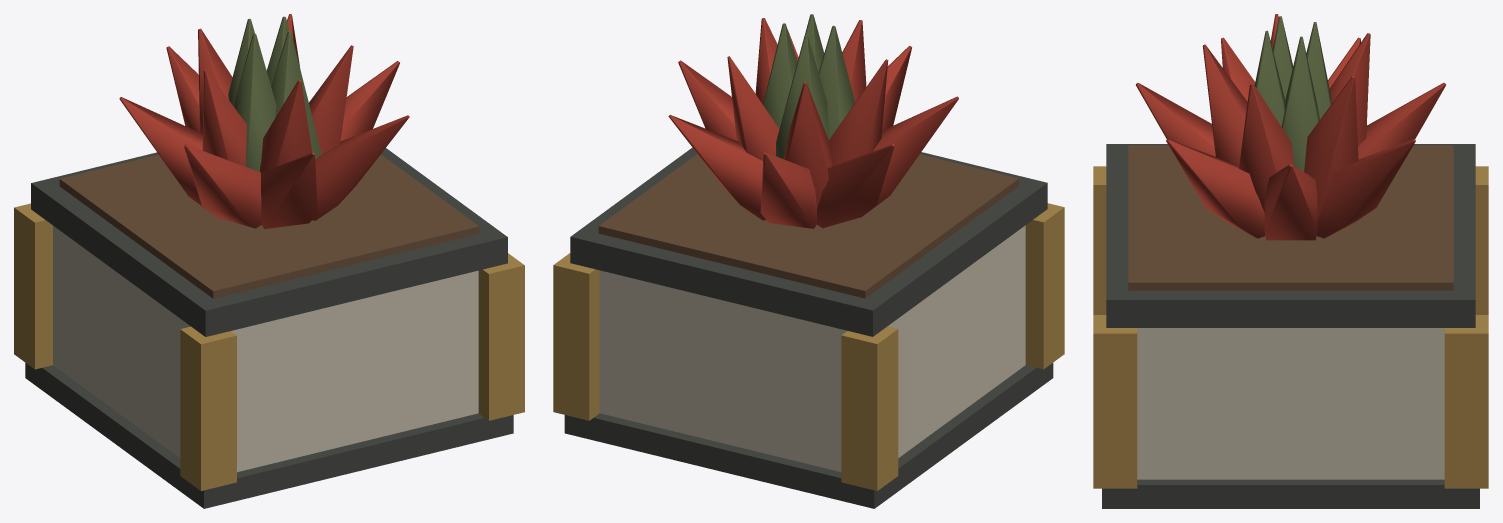
Rendered from pot_succulent.glb.
The picture shows the model from 3 angles, left to right: view 1: azimuth 30°, elevation 25°; view 2: azimuth 150°, elevation 25°; view 3: azimuth 270°, elevation 25°; orthographic projection. The views are drawn at different scales.
Visible parts, largest first — view 1: pot_succulent; view 2: pot_succulent; view 3: pot_succulent.
Part boxes in pixels (<box>): pot_succulent: <box>14,14,524,508</box>; pot_succulent: <box>553,14,1064,508</box>; pot_succulent: <box>1093,14,1488,508</box>.
Bounding box in the file's own units: 0.9 × 1.01 × 0.9.
